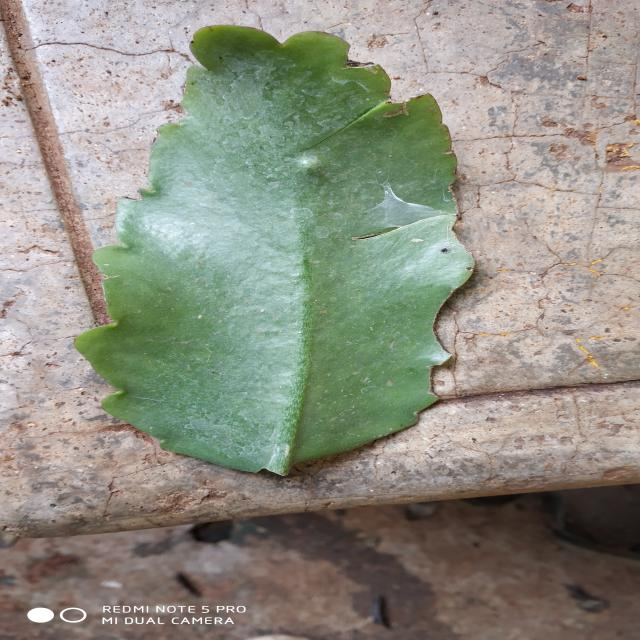defectedspinach: (193, 26, 456, 238)
spinach: (76, 26, 473, 474)
